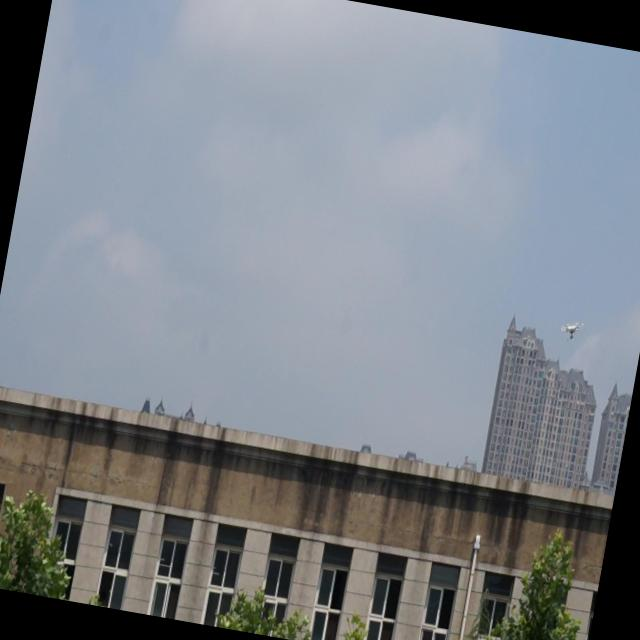drone: (556, 318, 586, 342)
